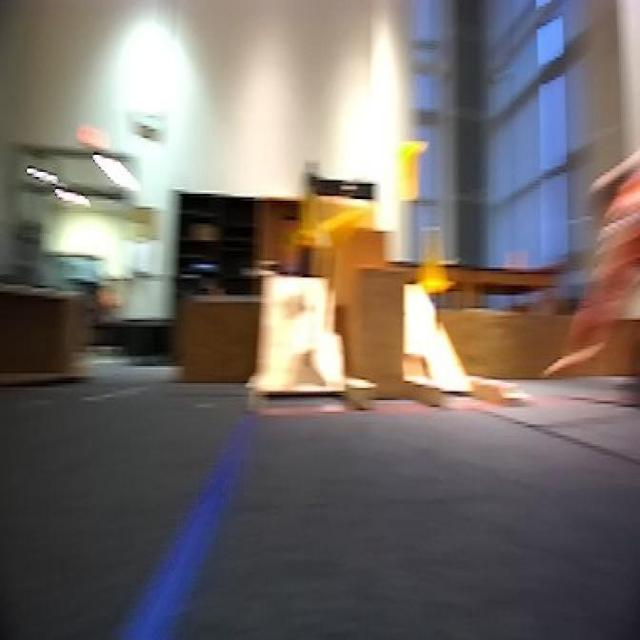frc_cone: (410, 211, 463, 306), (391, 133, 432, 213), (325, 201, 376, 259), (296, 191, 325, 252)
